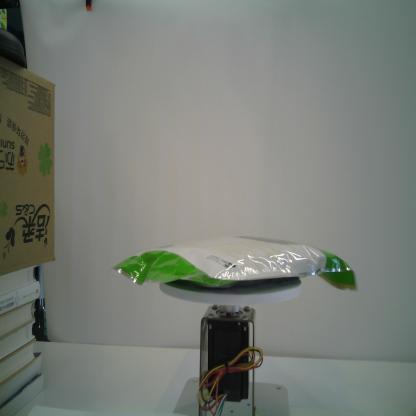Dried Food: (111, 233, 359, 295)
